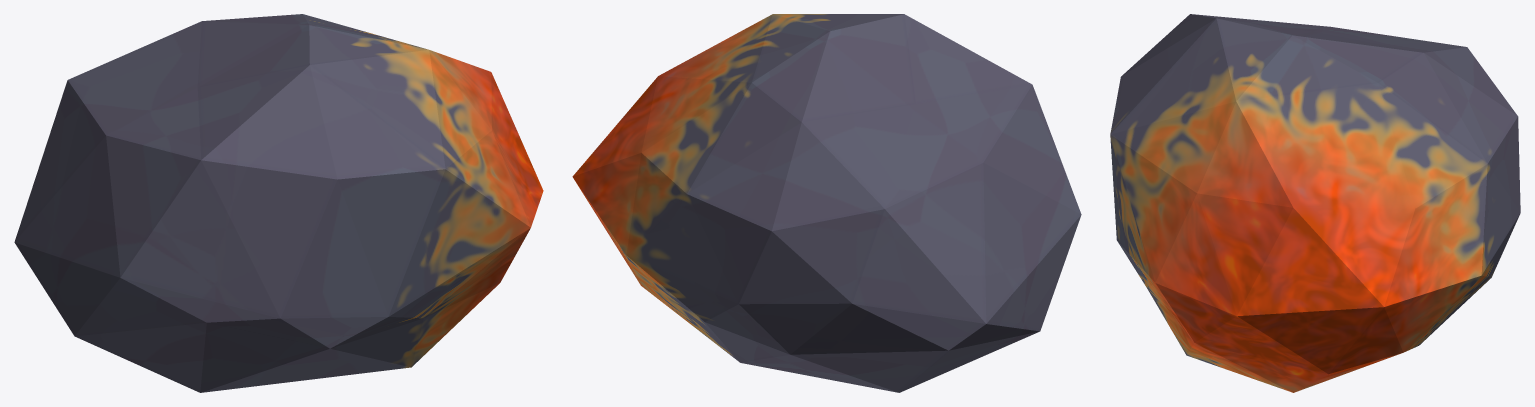
3 views of the same model, side by side, from view 1: azimuth 30°, elevation 25°; view 2: azimuth 150°, elevation 25°; view 3: azimuth 270°, elevation 25° (orthographic). The views are drawn at different scales.
Parts seen in each view (by area): view 1: метиорит.007; view 2: метиорит.007; view 3: метиорит.007.
Boxes of the visible parts, <box> form: метиорит.007: <box>14,14,543,392</box>; метиорит.007: <box>572,14,1081,392</box>; метиорит.007: <box>1110,14,1520,392</box>.
Bounding box in the file's own units: 220 × 151 × 180.
